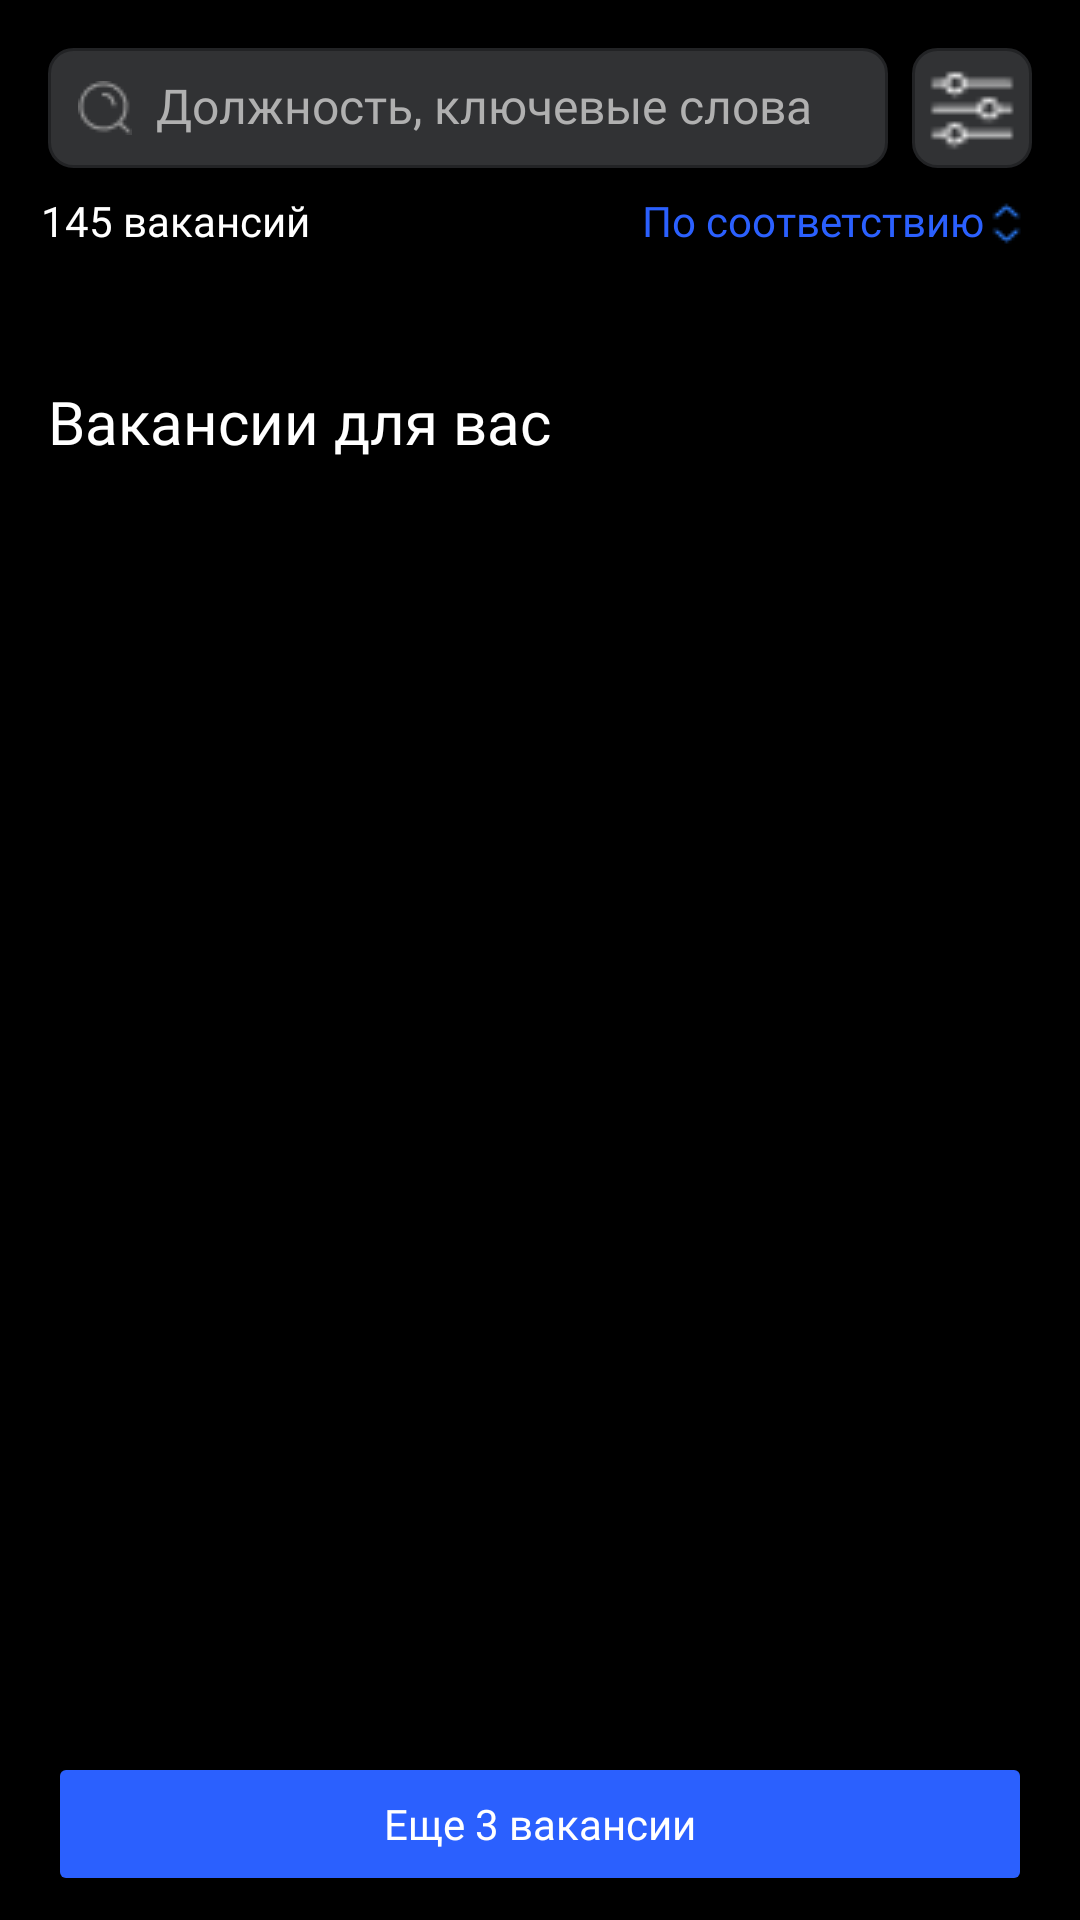

Named icons in this screenshot (1080×1920) and their bounding boxes, bbox=[x1, y1, x2, y2]:
arrows: bbox=[993, 203, 1020, 244]
filter: bbox=[912, 48, 1032, 168]
